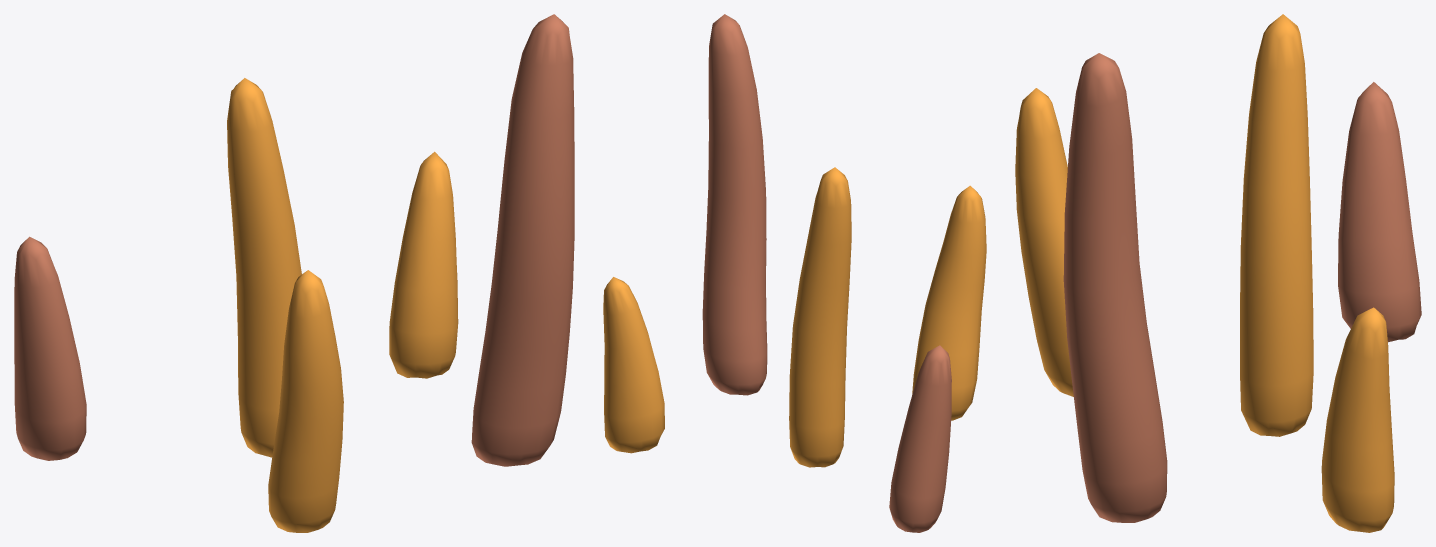
The model's file is Spikes_03.fbx.
3 views of the same model, side by side, from view 1: azimuth 30°, elevation 25°; view 2: azimuth 150°, elevation 25°; view 3: azimuth 270°, elevation 25° (orthographic). The views are drawn at different scales.
Visible parts, largest first — view 1: Spikes_03_LOD0; view 2: Spikes_03_LOD0; view 3: Spikes_03_LOD0.
Boxes of the visible parts, bbox=[...] form: Spikes_03_LOD0: bbox=[14, 14, 574, 532]; Spikes_03_LOD0: bbox=[603, 14, 986, 532]; Spikes_03_LOD0: bbox=[1015, 14, 1421, 532].
Size of what is drawn, in the model's own units: 539 by 541 by 413.
